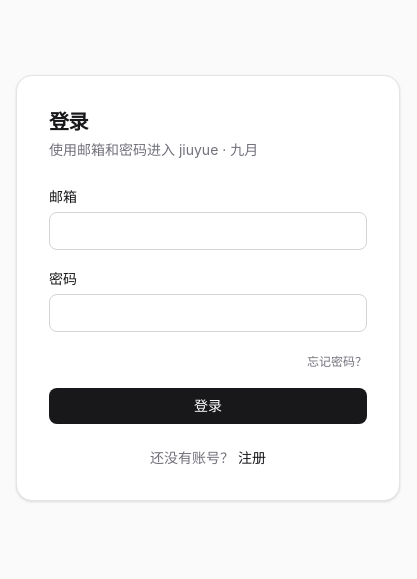
LoginView › shows the retry hint when the backend throttles the login
The width and height of the screenshot is (417, 579).
Type "alice@example.com" into the field labelled "邮箱".
click(208, 231); type("alice@example.com")  # box 49,212 -> 367,250
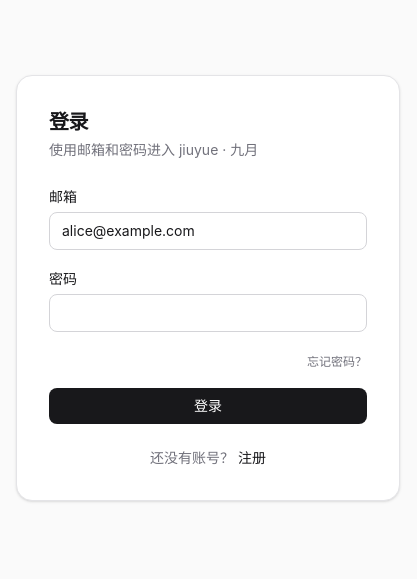
Type "secret123" into the password field labelled "密码".
click(208, 313); type("secret123")  # box 49,294 -> 367,332
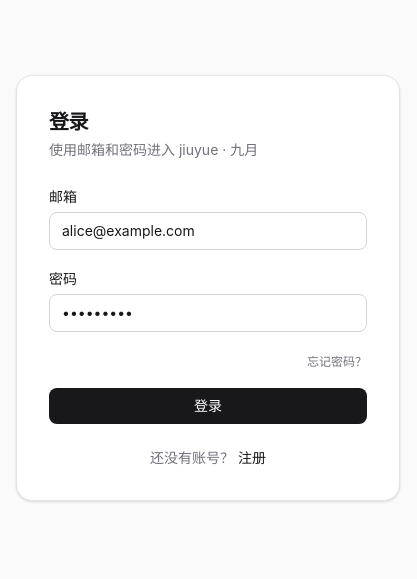
Submit the form, box 49,184 -> 367,424
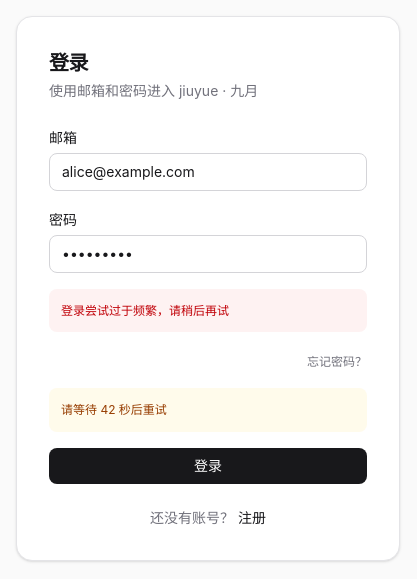
Expected: the text "请等待 42 秒后重试" is shown, 49,388 -> 367,432
Expected: the text with test id "retry-hint" shows "42", 61,402 -> 167,417
Expected: the text with test id "form-error" shows "登录尝试过于频繁", 61,302 -> 229,318
